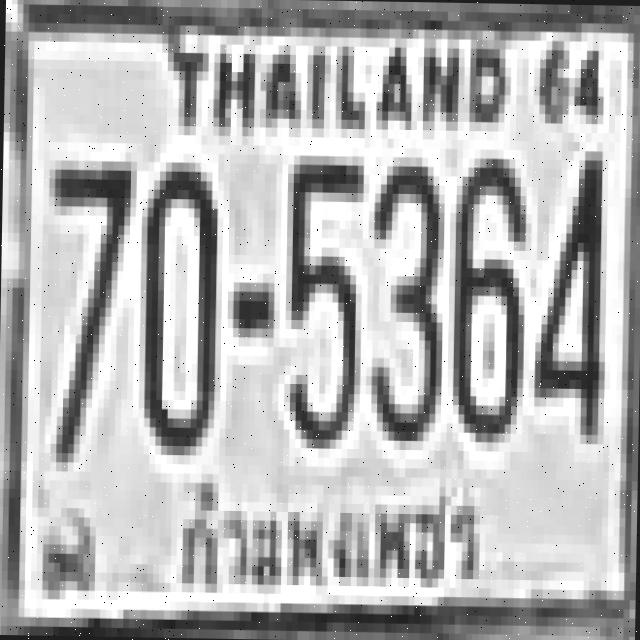0: (138, 152, 218, 446)
3: (364, 156, 440, 441)
4: (528, 146, 602, 430)
5: (286, 154, 361, 440)
6: (449, 148, 524, 434)
7: (44, 156, 131, 458)
KamphaengPhet: (162, 474, 486, 606)
